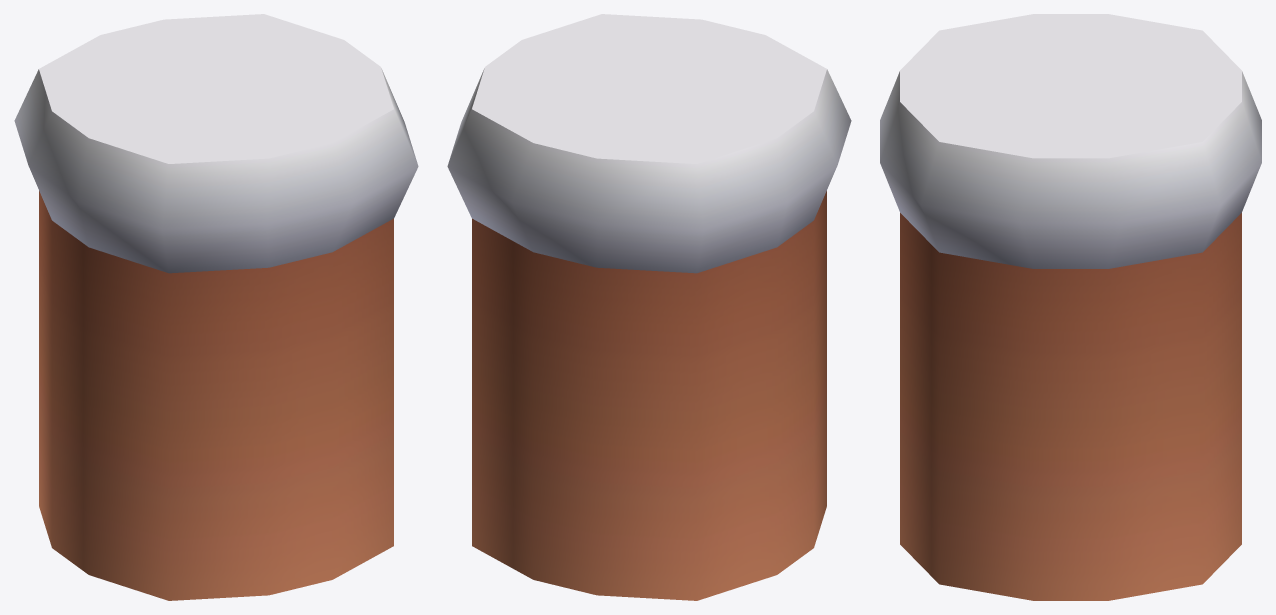
Rendered from kenney-platformer-block-snow-narrow.glb.
3 renders of one model, left to right at view 1: azimuth 30°, elevation 25°; view 2: azimuth 150°, elevation 25°; view 3: azimuth 270°, elevation 25°, orthographic.
Visible parts, largest first — view 1: block-snow-narrow; view 2: block-snow-narrow; view 3: block-snow-narrow.
Part boxes in pixels (x1,y1,x2,y2): block-snow-narrow: (14,14,418,600); block-snow-narrow: (447,14,851,600); block-snow-narrow: (880,14,1261,600).
Bounding box in the file's own units: 0.7821 × 1 × 0.7821.
1 material, 1 textured.
